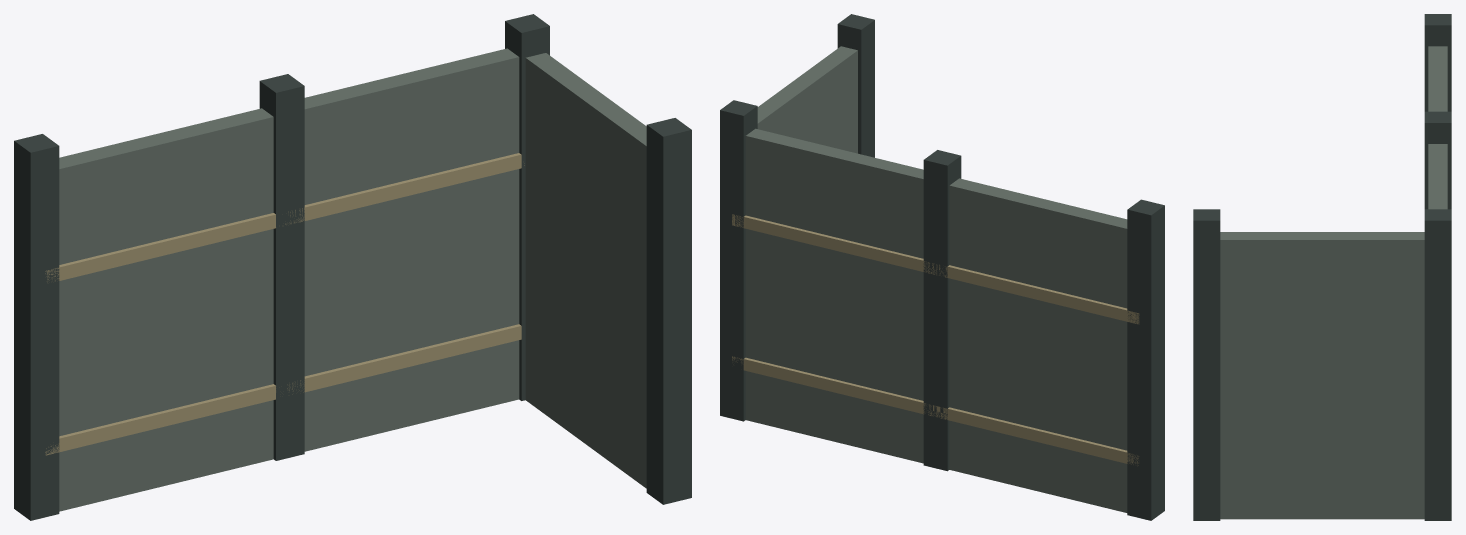
The model's file is ENV_Barrier.glb.
3 views of the same model, side by side, from view 1: azimuth 30°, elevation 25°; view 2: azimuth 150°, elevation 25°; view 3: azimuth 270°, elevation 25° (orthographic). The views are drawn at different scales.
Parts seen in each view (by area): view 1: PanelX, PanelZ, Post3, Post0, Post1, RailHigh, RailLow, Post2; view 2: PanelX, Post0, Post1, Post2, PanelZ, RailHigh, RailLow, Post3; view 3: PanelZ, Post2, Post3, PanelX, Post1, Post0.
Part boxes in pixels (left/top/right/bottom): PanelX: left=59, top=48, right=519, bottom=511; PanelZ: left=525, top=53, right=646, bottom=488; Post3: left=646, top=118, right=691, bottom=504; Post0: left=14, top=134, right=59, bottom=520; Post1: left=259, top=74, right=304, bottom=460; RailHigh: left=45, top=153, right=524, bottom=282; RailLow: left=45, top=324, right=521, bottom=455; Post2: left=505, top=14, right=549, bottom=400; PanelX: left=745, top=128, right=1127, bottom=512; Post0: left=1127, top=199, right=1164, bottom=520; Post1: left=923, top=150, right=961, bottom=471; Post2: left=720, top=100, right=757, bottom=421; PanelZ: left=757, top=46, right=857, bottom=153; RailHigh: left=732, top=214, right=1139, bottom=324; RailLow: left=732, top=356, right=1139, bottom=466; Post3: left=837, top=14, right=874, bottom=157; PanelZ: left=1220, top=232, right=1424, bottom=519; Post2: left=1424, top=209, right=1451, bottom=520; Post3: left=1193, top=209, right=1220, bottom=520; PanelX: left=1428, top=46, right=1447, bottom=209; Post1: left=1424, top=111, right=1451, bottom=209; Post0: left=1424, top=14, right=1451, bottom=111.
Size of the model in its own units: 6.35 by 4.3 by 3.35.
